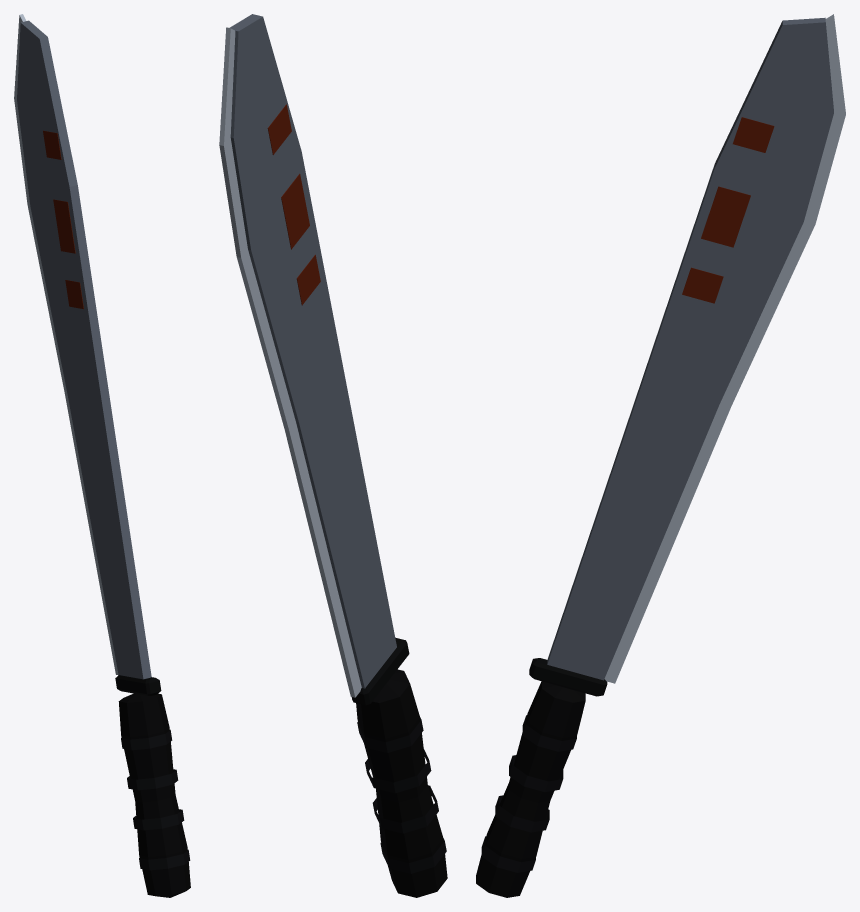
File: SM_Wep_Machete.glb
The picture shows the model from 3 angles, left to right: view 1: azimuth 30°, elevation 25°; view 2: azimuth 150°, elevation 25°; view 3: azimuth 270°, elevation 25°; orthographic projection. The views are drawn at different scales.
Visible parts, largest first — view 1: SM_Wep_Machete; view 2: SM_Wep_Machete; view 3: SM_Wep_Machete.
Boxes of the visible parts, <box> form: SM_Wep_Machete: <box>14,14,190,897</box>; SM_Wep_Machete: <box>219,14,447,897</box>; SM_Wep_Machete: <box>476,14,845,897</box>.
Bounding box in the file's own units: 0.0342 × 0.6236 × 0.2383.
1 material, 1 textured.
